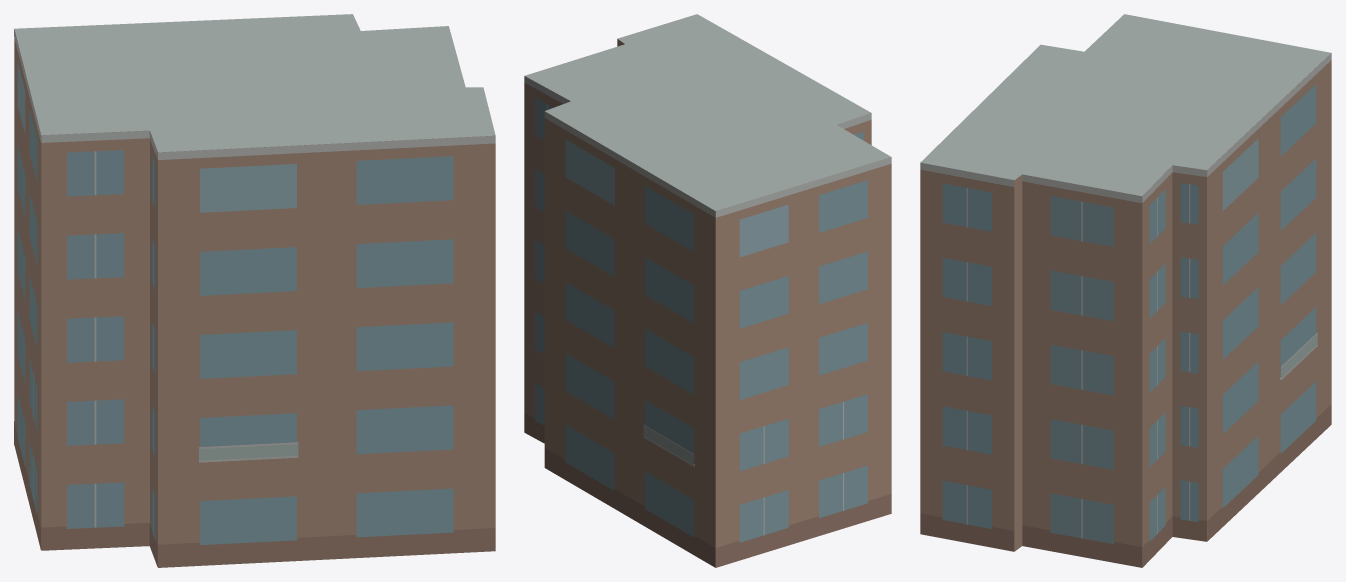
Rendered from survey-upis-32719635.glb.
3 views of the same model, side by side, from view 1: azimuth 30°, elevation 25°; view 2: azimuth 150°, elevation 25°; view 3: azimuth 270°, elevation 25° (orthographic). The views are drawn at different scales.
Parts seen in each view (by area): view 1: survey-upis-32719635.tmp; view 2: survey-upis-32719635.tmp; view 3: survey-upis-32719635.tmp.
Boxes of the visible parts, left/top/right/bottom form: survey-upis-32719635.tmp: left=14, top=14, right=495, bottom=567; survey-upis-32719635.tmp: left=524, top=14, right=891, bottom=567; survey-upis-32719635.tmp: left=920, top=14, right=1331, bottom=567.
Size of the model in its own units: 13.69 by 13 by 13.05.
